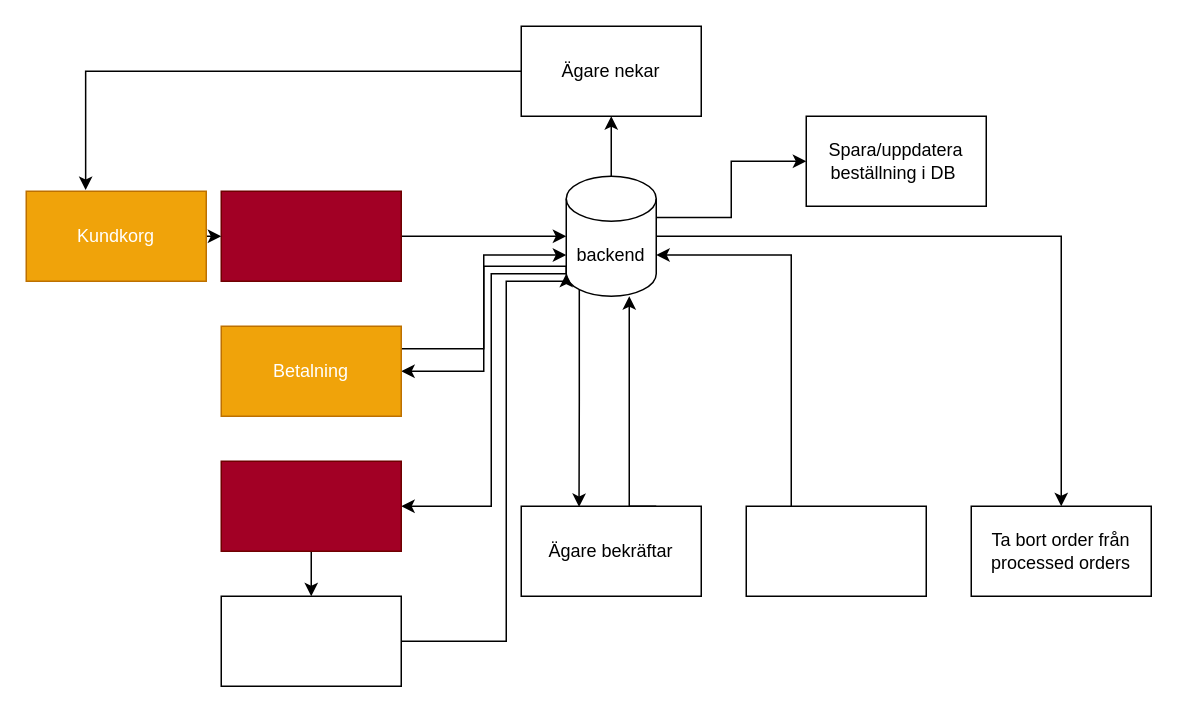
Some shapes in this 1178 by 713 pixel diagram are drawn without their labels. Here are the shapes that lost their labels. From the top down, the box of each, then its label:
(220, 190, 401, 281): Bekräfta köp
(220, 460, 401, 551): Visa tid
(745, 505, 926, 596): Ändra tid
(220, 595, 401, 686): Kund hämtar
